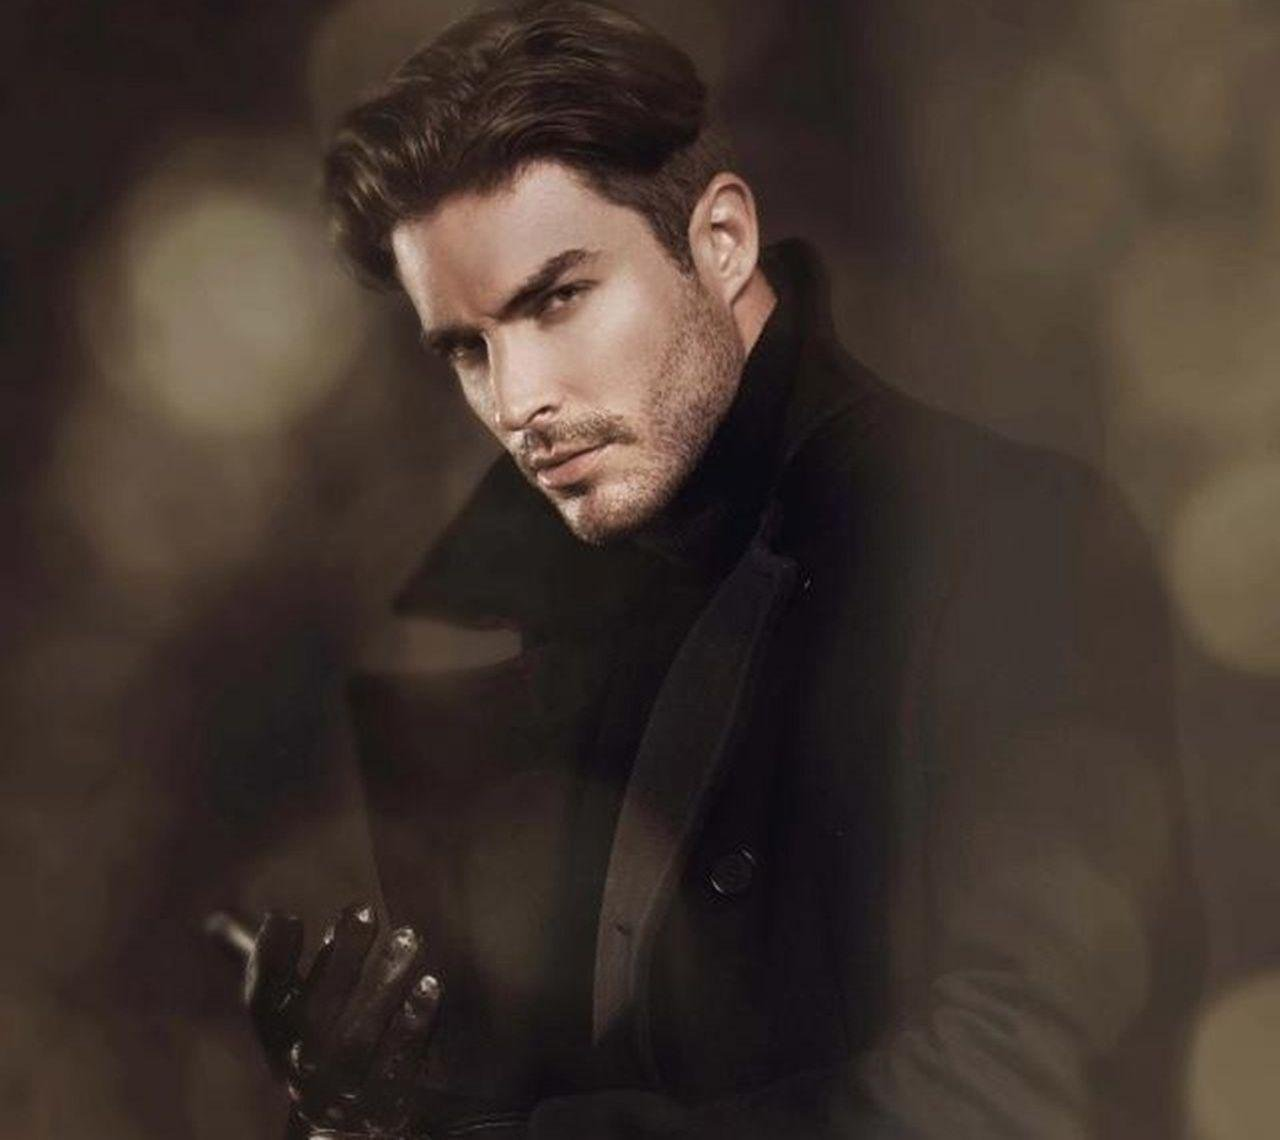noMask: (292, 14, 795, 557)
